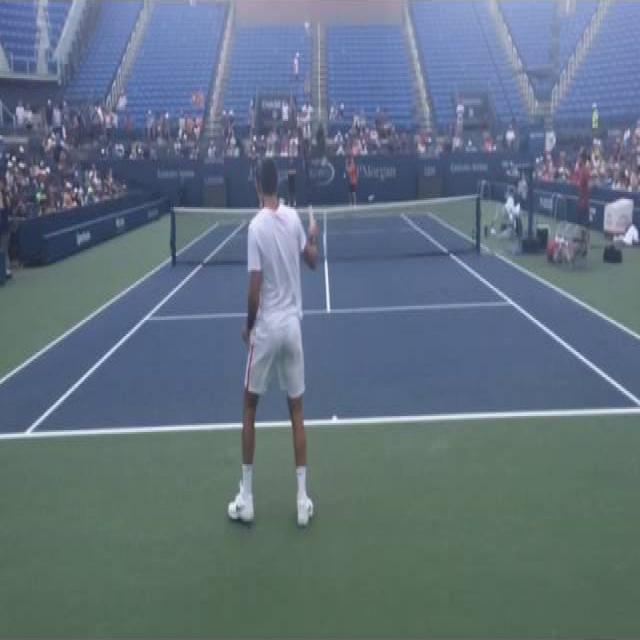court: (0, 223, 635, 510)
net: (161, 198, 501, 260)
player: (218, 138, 342, 534)
